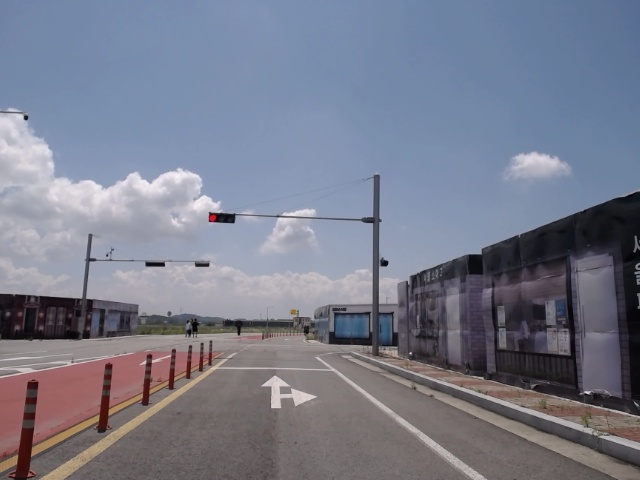red_3: (208, 211, 237, 225)
